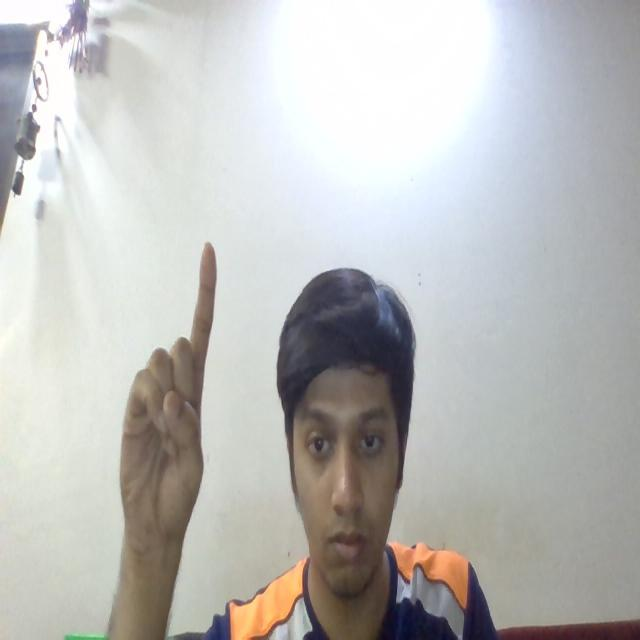Z: (82, 233, 242, 577)
